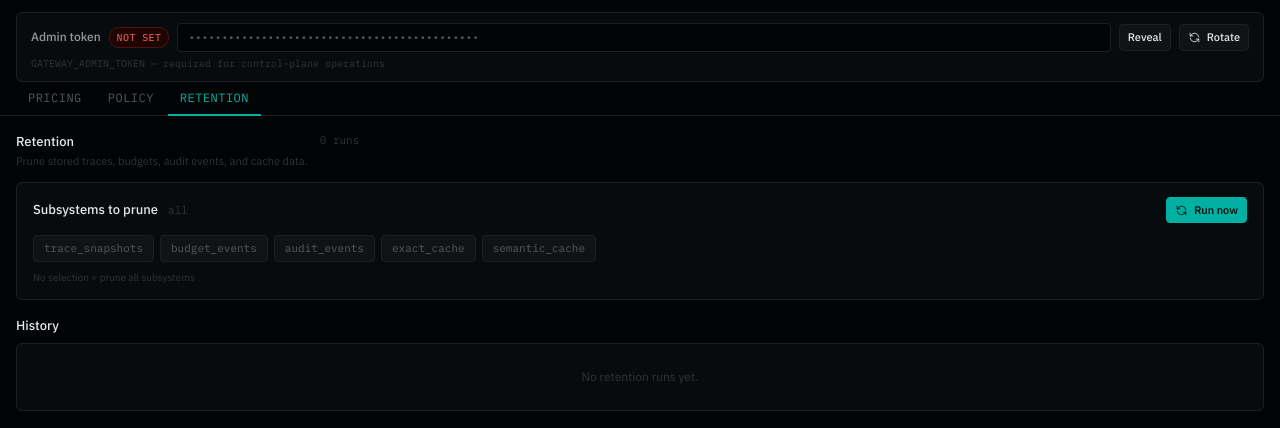
AdminView policy tab › renders the empty state when no rules are configured
Click the button "Policy" at (131, 98), box [96,82,166,116]
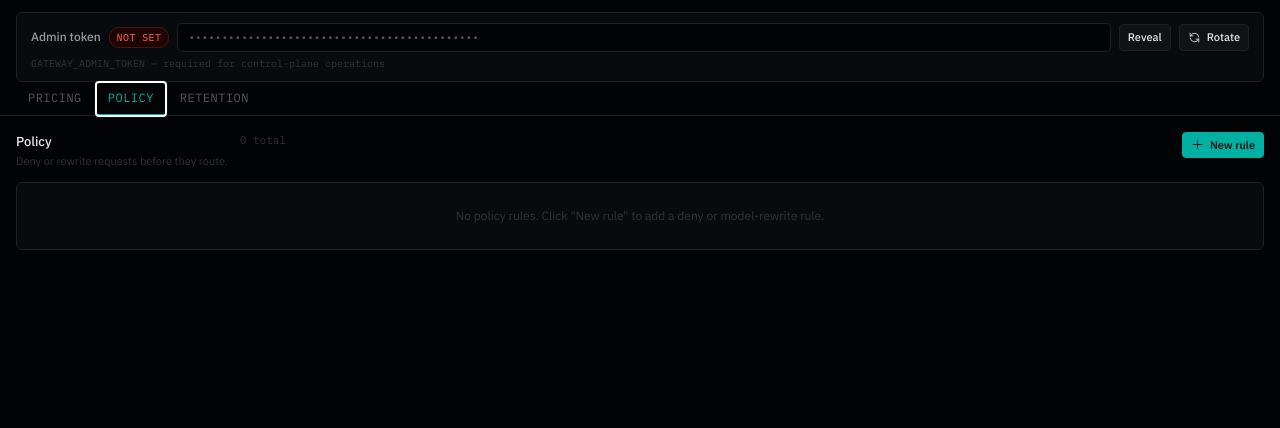
Check: the text "No policy rules" is shown, box [456,208,824,223]
